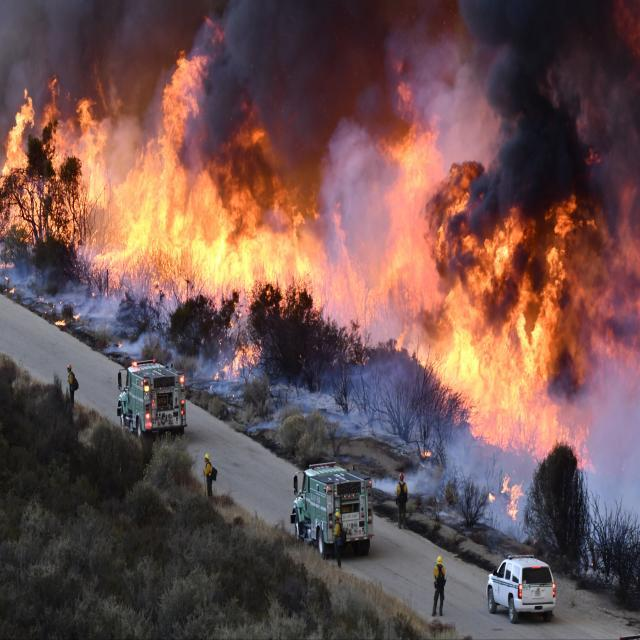Fire: (3, 13, 618, 496), (205, 341, 263, 392), (486, 458, 522, 524)
Smoke: (448, 0, 640, 247), (174, 0, 381, 175), (311, 112, 404, 272), (564, 348, 640, 530), (0, 0, 94, 131), (0, 240, 128, 326), (330, 361, 408, 442), (244, 394, 316, 436), (101, 328, 176, 361), (366, 468, 430, 494)
